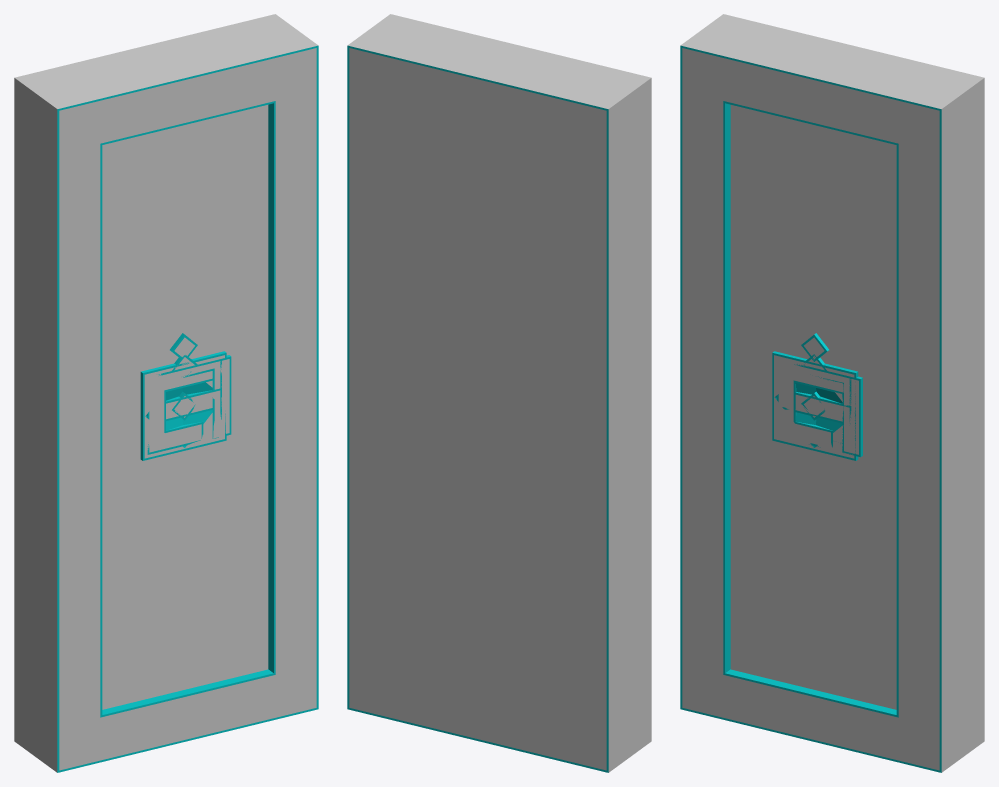
The model's file is Doors.fbx.
3 views of the same model, side by side, from view 1: azimuth 30°, elevation 25°; view 2: azimuth 150°, elevation 25°; view 3: azimuth 330°, elevation 25° (orthographic).
Visible parts, largest first — view 1: Cube.004, Cube.003, Cube.002, Cube, Cube.001; view 2: Cube.004; view 3: Cube.004, Cube.003, Cube.002, Cube, Cube.001.
Boxes of the visible parts, x1=… form: Cube.004: x1=14, y1=14, x2=318, y2=772; Cube.003: x1=102, y1=105, x2=268, y2=708; Cube.002: x1=102, y1=106, x2=268, y2=709; Cube: x1=102, y1=106, x2=268, y2=708; Cube.001: x1=103, y1=106, x2=263, y2=358; Cube.004: x1=347, y1=14, x2=651, y2=772; Cube.004: x1=680, y1=14, x2=984, y2=772; Cube.003: x1=730, y1=105, x2=896, y2=709; Cube.002: x1=730, y1=106, x2=896, y2=706; Cube: x1=731, y1=105, x2=896, y2=707; Cube.001: x1=734, y1=107, x2=896, y2=369.
Bounding box in the file's own units: 700 × 1700 × 200.
